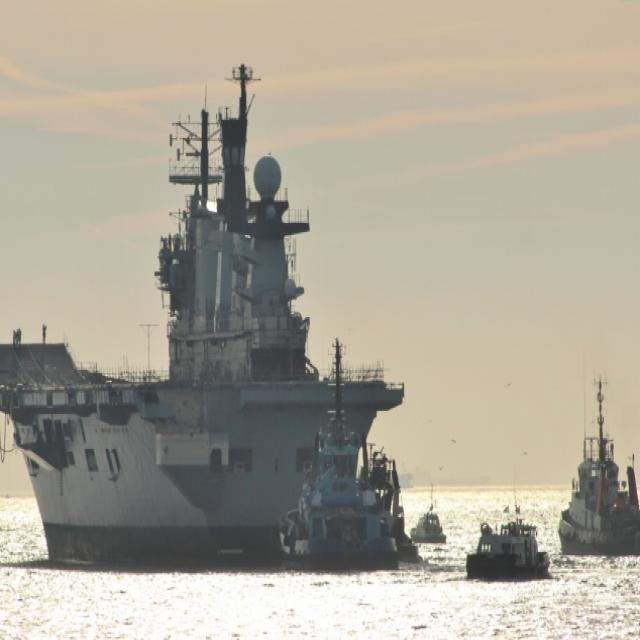Portanaves: (1, 57, 417, 576)
